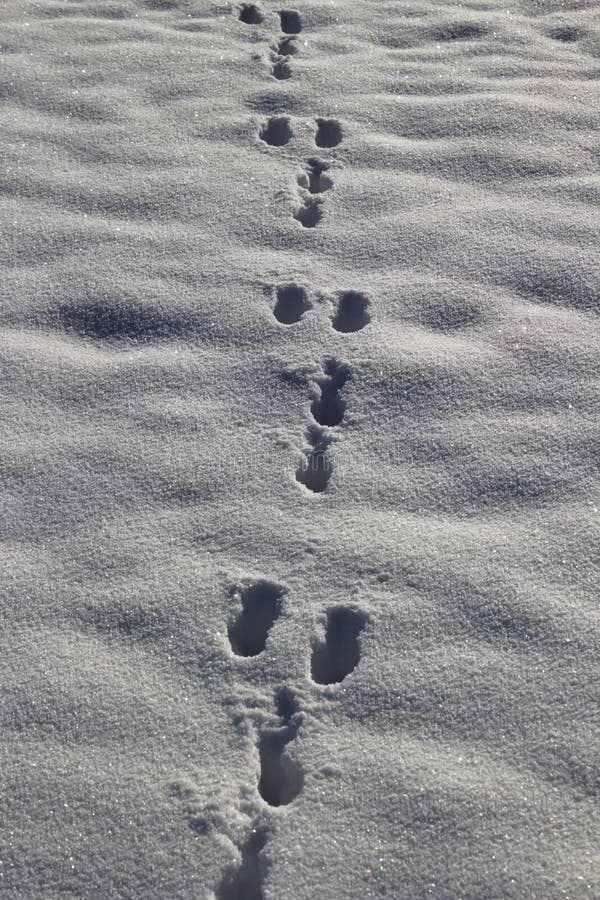rabbit: (172, 556, 428, 814)
